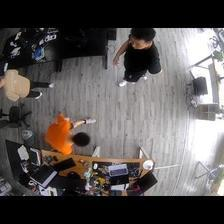normal: (111, 28, 165, 87), (42, 112, 97, 152), (1, 69, 58, 102)
